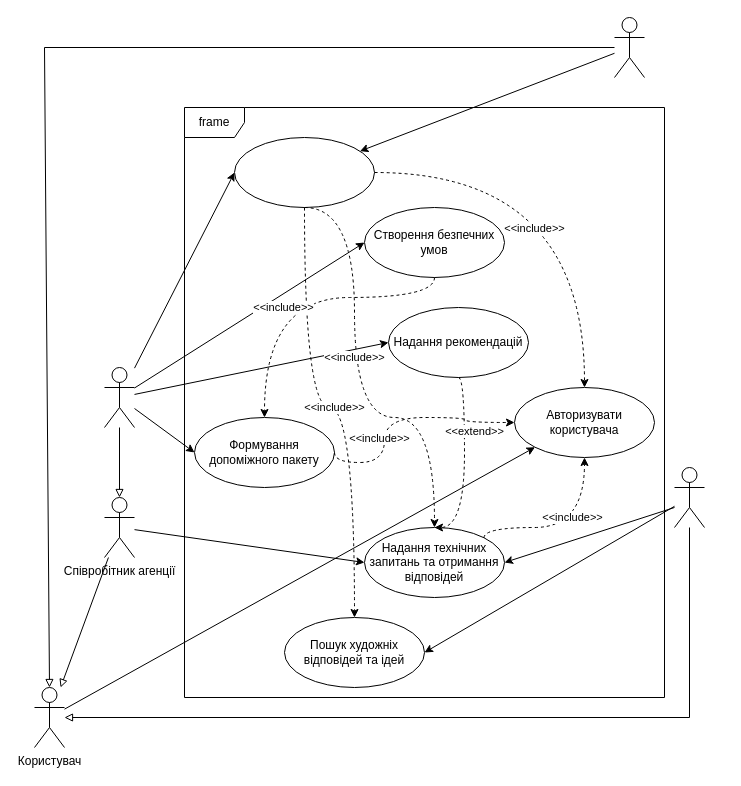
Image size: 741x786. Some labels were removed from this diagram. The centre of each missing label's shape, as x and y in pixels:
"Аналіз безпеки праці" belongs at pixel 304 172.
"Митець-безпековик" belongs at pixel 629 47.
"Митець-друг" belongs at pixel 689 497.
"Інструктор" belongs at pixel 119 397.
